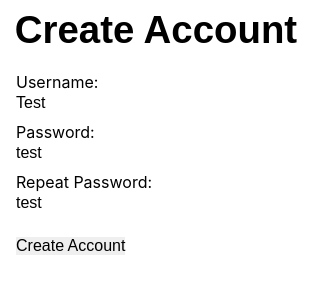
Test case: Create Account › should display error message if cannot create an account
Step 1. Click the button "Create Account" → (71, 246), box x1=16 y1=237 x2=125 y2=255
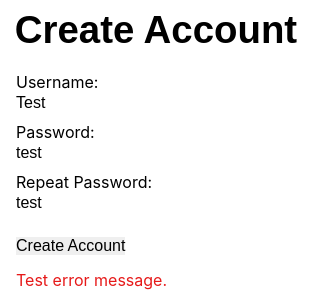
Now the text "Test error message." is shown, box x1=16 y1=270 x2=167 y2=290
